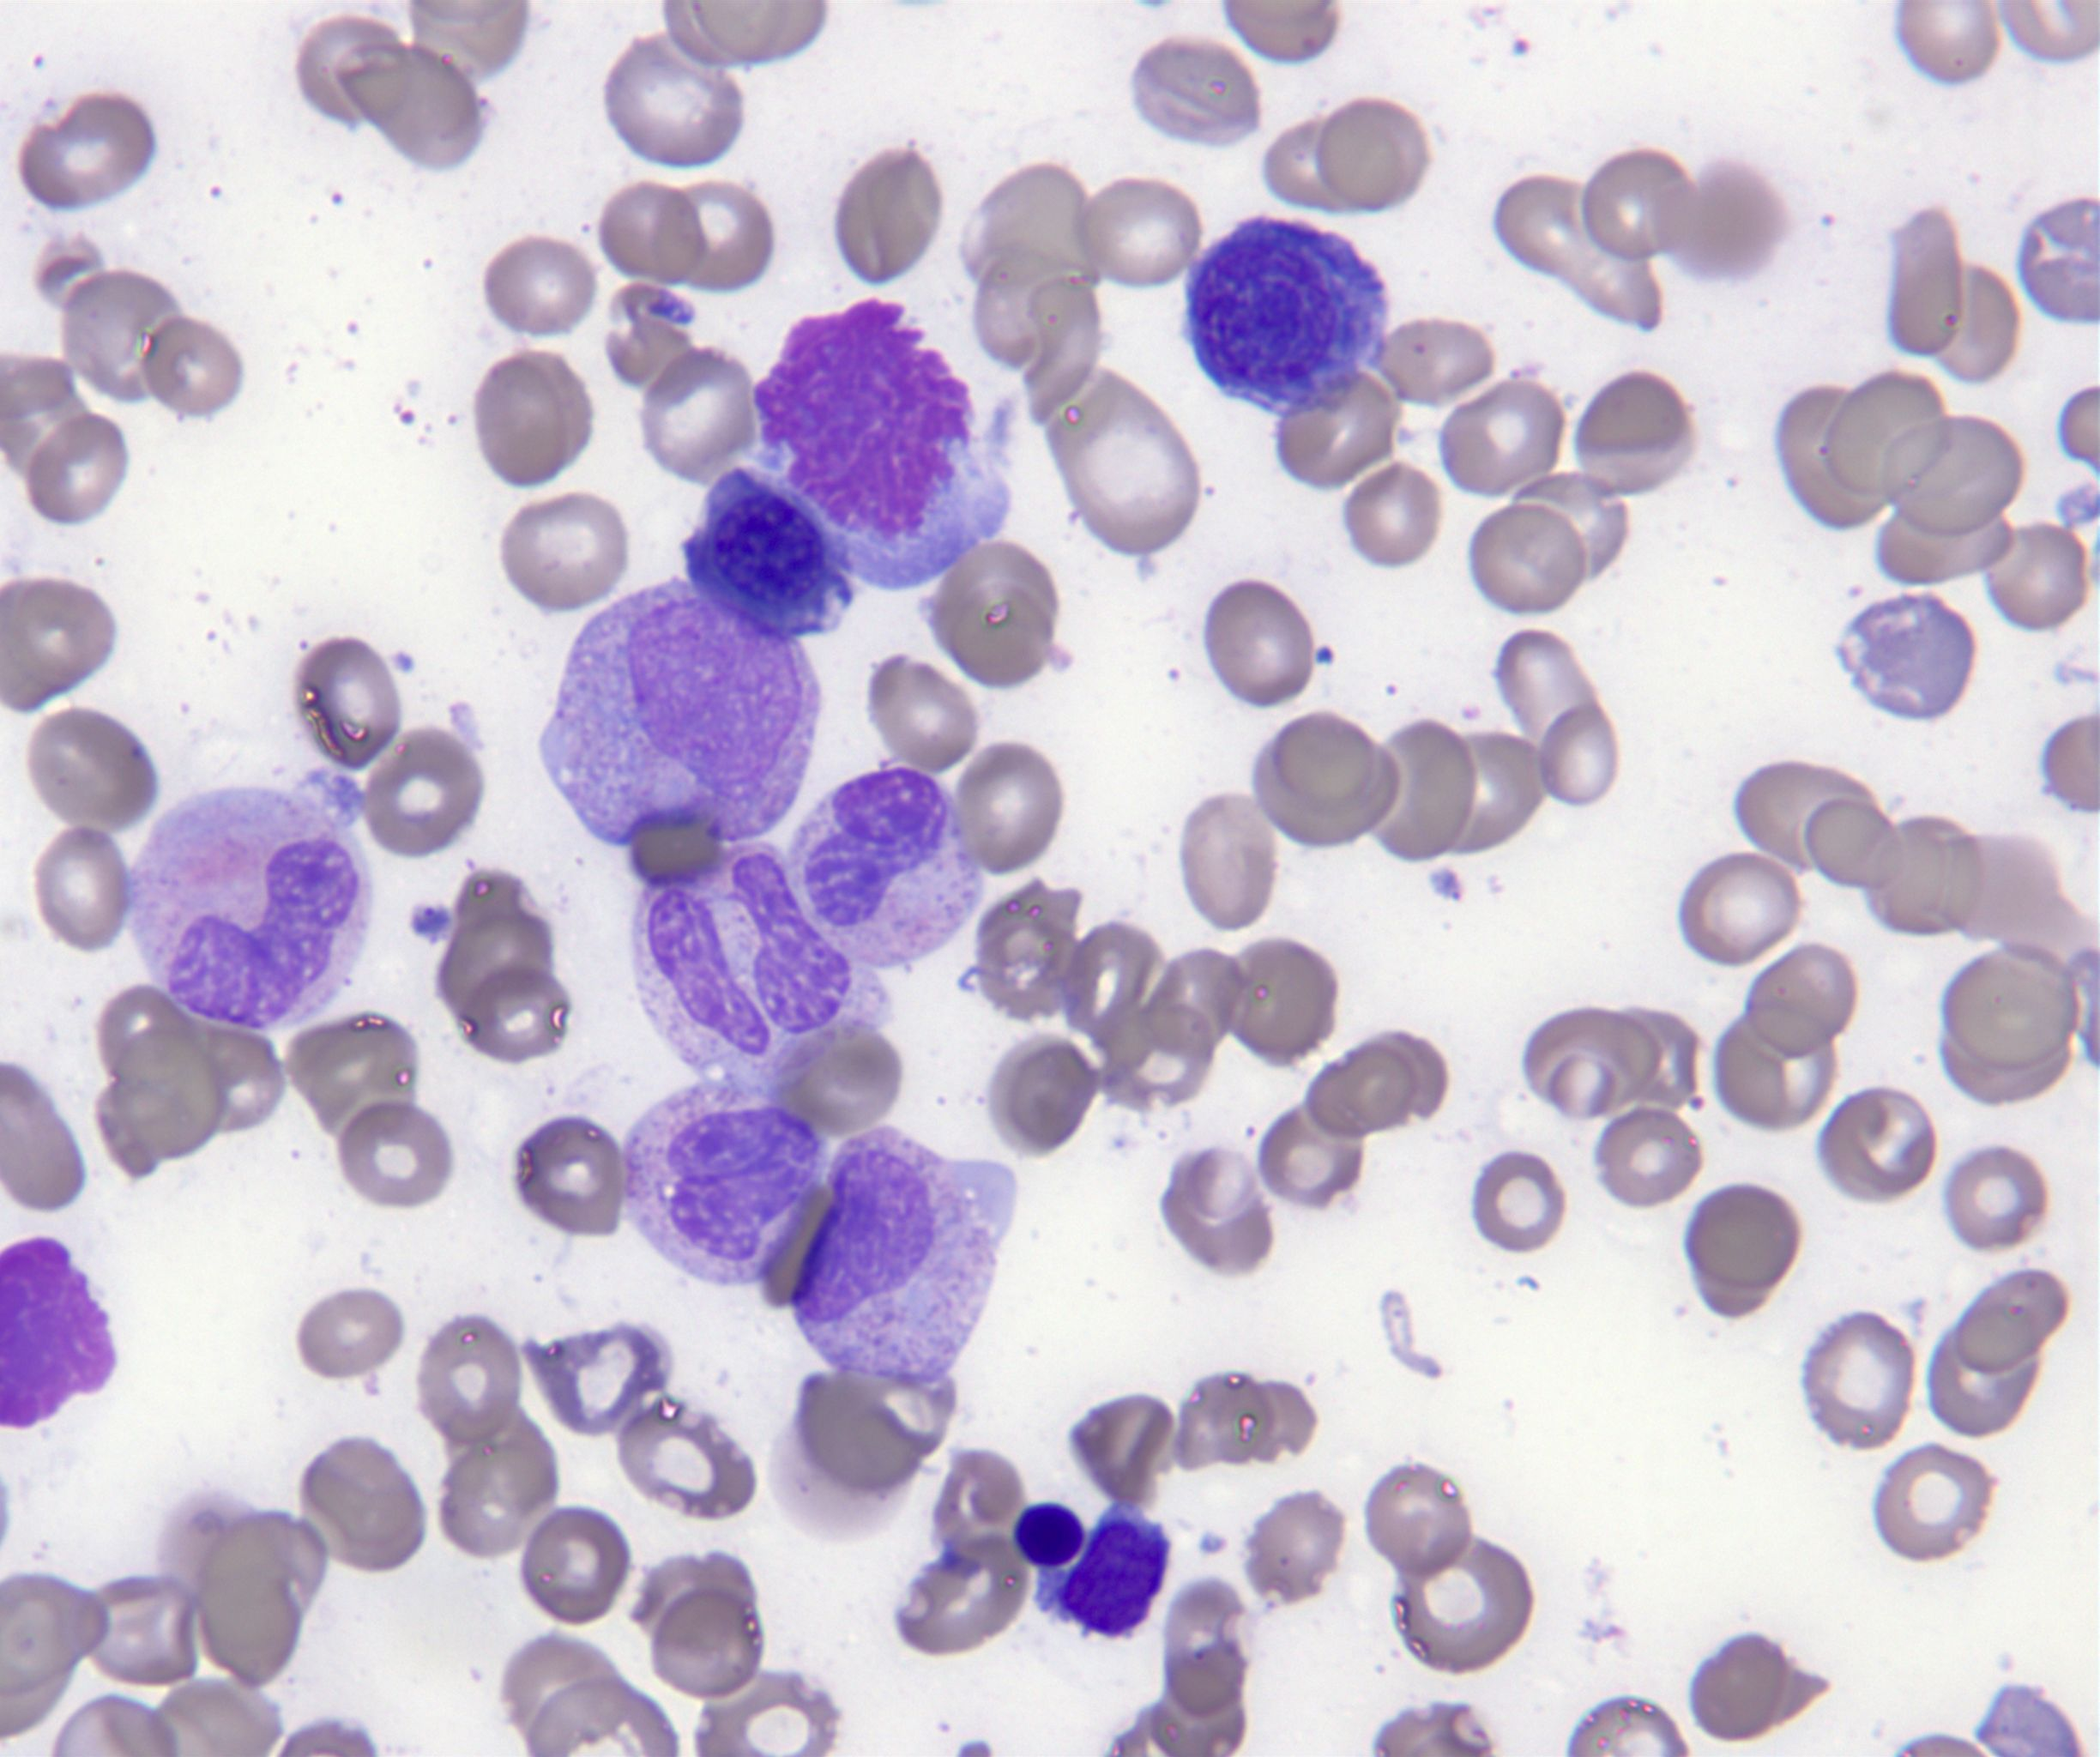23: (1181, 215, 1387, 414), (682, 466, 856, 637)
3: (539, 578, 820, 844)
32: (1036, 1502, 1169, 1635)
4: (794, 1125, 1019, 1387)
5: (126, 783, 373, 1029), (621, 1082, 832, 1284), (785, 766, 985, 972)
6: (630, 844, 893, 1099)
x: (752, 297, 1013, 588), (0, 1234, 119, 1432), (1012, 1501, 1088, 1570)
